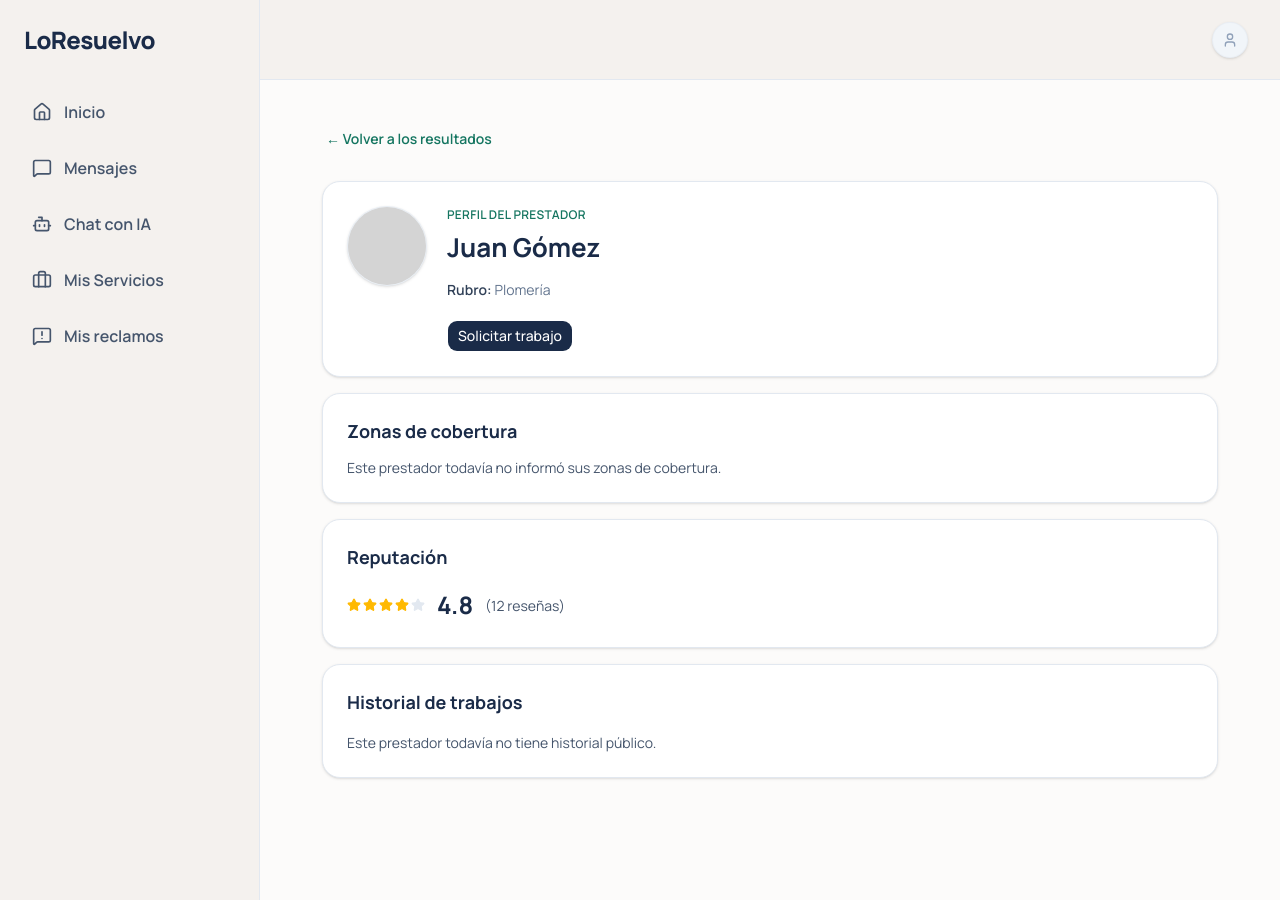
Test: ProviderProfileView › opens the existing work request modal from the profile
Click the button "Solicitar trabajo".
click(510, 336)  # box [447,320,573,352]
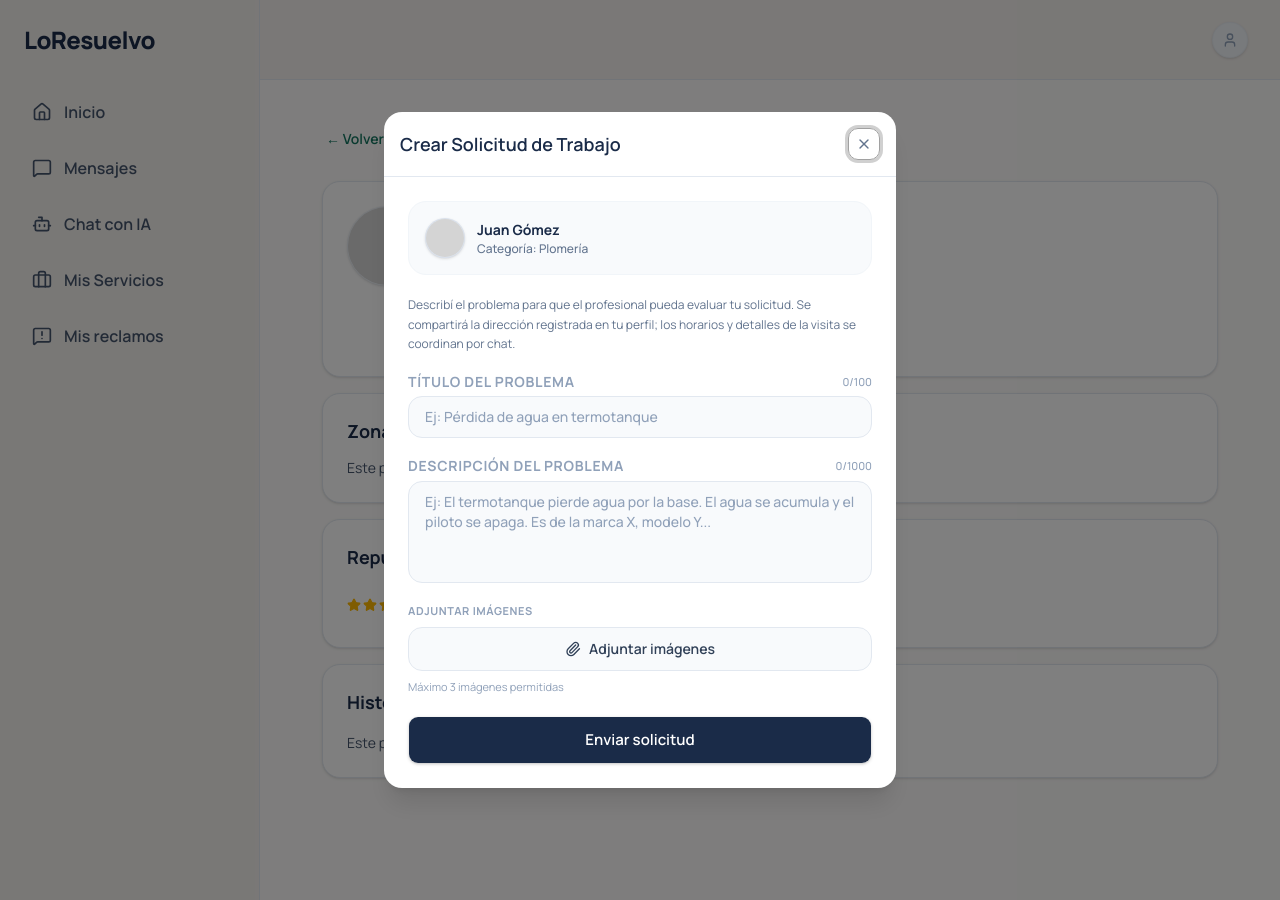
Now the heading "Crear Solicitud de Trabajo" is shown, box [400,130,621,158]
